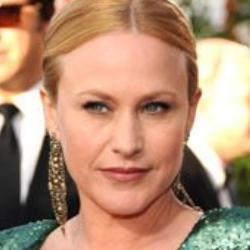face: (21, 1, 216, 226)
